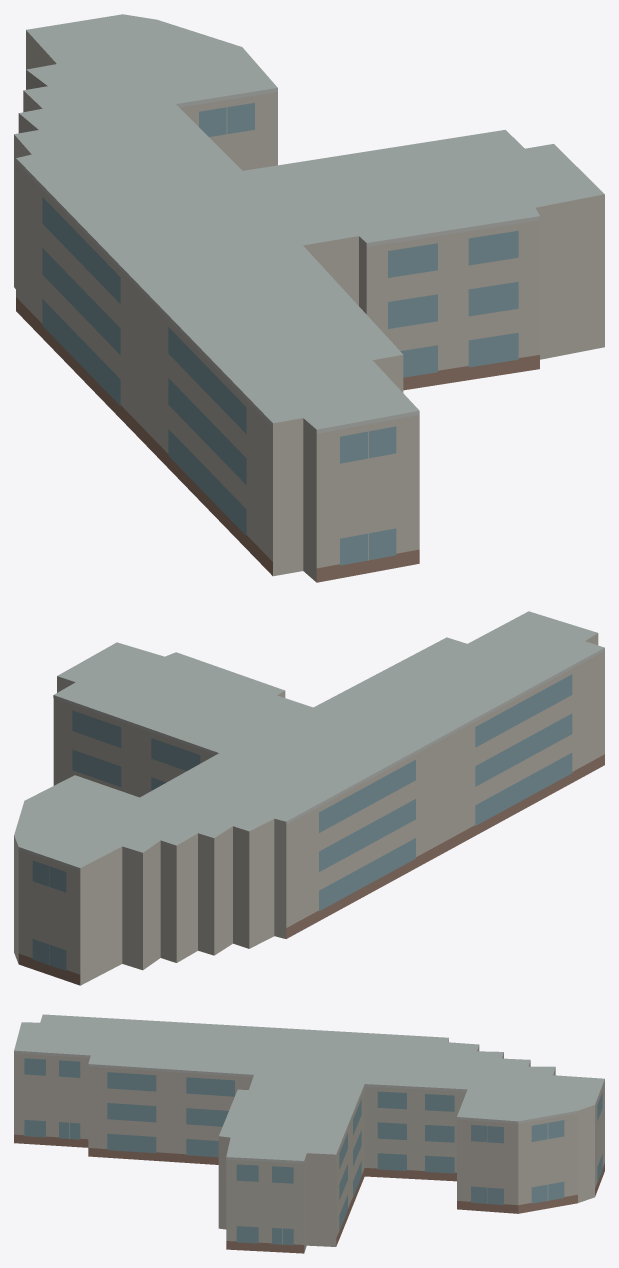
The model's file is survey-upis-32829250.glb.
The picture shows the model from 3 angles, top to bottom: view 1: azimuth 30°, elevation 25°; view 2: azimuth 150°, elevation 25°; view 3: azimuth 270°, elevation 25°; orthographic projection. The views are drawn at different scales.
Parts seen in each view (by area): view 1: survey-upis-32829250.tmp; view 2: survey-upis-32829250.tmp; view 3: survey-upis-32829250.tmp.
Part boxes in pixels (<box>): survey-upis-32829250.tmp: <box>14,14,604,582</box>; survey-upis-32829250.tmp: <box>14,611,604,985</box>; survey-upis-32829250.tmp: <box>14,1014,604,1253</box>.
Size of the model in its own units: 31.13 by 9.15 by 52.99.
